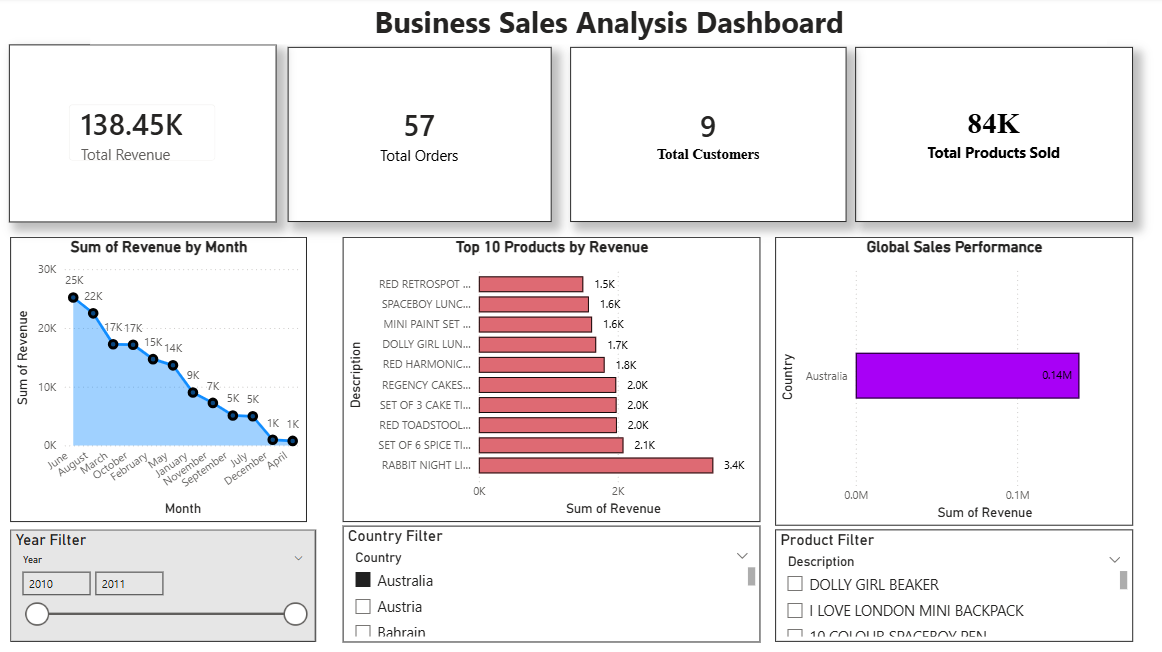

The page's visual inventory and layout, read from the dashboard file:
{"tool":"powerbi","page":{"name":"Page 1","canvas":[1280,720],"ordinal":0},"visuals":[{"type":"cardVisual","fields":{"Data":["data.Total Orders"]},"box":[317,54.9,289.5,192.1],"z":0},{"type":"cardVisual","fields":{"Data":["data.Total Products Sold"]},"box":[940,54.9,304.6,192.1],"z":1000},{"type":"cardVisual","fields":{"Data":["data.Total Customers"]},"box":[627.1,54.9,303.3,192.1],"z":2000},{"type":"lineChart","fields":{"Category":["data.Month"],"Y":["Sum(data.Revenue)"]},"box":[12.3,263.5,325.2,312.9],"z":3000},{"type":"clusteredBarChart","title":"Top 10 Products by Revenue","fields":{"Category":["data.Description"],"Y":["Sum(data.Revenue)"]},"box":[377.4,263.5,458.3,312.9],"z":4000},{"type":"clusteredBarChart","title":"Global Sales Performance","fields":{"Category":["data.Country"],"Y":["Sum(data.Revenue)"]},"box":[852.1,263.5,392.5,317],"z":5000},{"type":"slicer","title":"Year Filter","fields":{"Values":["data.Year"]},"box":[12.3,584.6,334.8,123.5],"z":6000},{"type":"slicer","title":"Country Filter","fields":{"Values":["data.Country"]},"box":[377.4,580.4,458.3,127.6],"z":7000},{"type":"slicer","title":"Product Filter","fields":{"Values":["data.Description"]},"box":[852.1,584.6,392.5,123.5],"z":8000},{"type":"cardVisual","fields":{"Data":["data.Total Revenue"]},"box":[11,52.1,293.7,194.9],"z":9000},{"type":"textbox","box":[100.2,0,1115.6,52.1],"z":9001}]}

Visuals, with their boxes in screenshot pixels (x1, y1, x2, y2), scaled from the page's 1280x720 canvas onto the 1162x652 screenshot:
cardVisual - data.Total Orders: bbox=(288, 50, 551, 224)
cardVisual - data.Total Products Sold: bbox=(853, 50, 1130, 224)
cardVisual - data.Total Customers: bbox=(569, 50, 845, 224)
lineChart - data.Month x Sum(data.Revenue): bbox=(11, 239, 306, 522)
"Top 10 Products by Revenue" clusteredBarChart: bbox=(343, 239, 759, 522)
"Global Sales Performance" clusteredBarChart: bbox=(774, 239, 1130, 526)
"Year Filter" slicer: bbox=(11, 529, 315, 641)
"Country Filter" slicer: bbox=(343, 526, 759, 641)
"Product Filter" slicer: bbox=(774, 529, 1130, 641)
cardVisual - data.Total Revenue: bbox=(10, 47, 277, 224)
textbox: bbox=(91, 0, 1104, 47)
